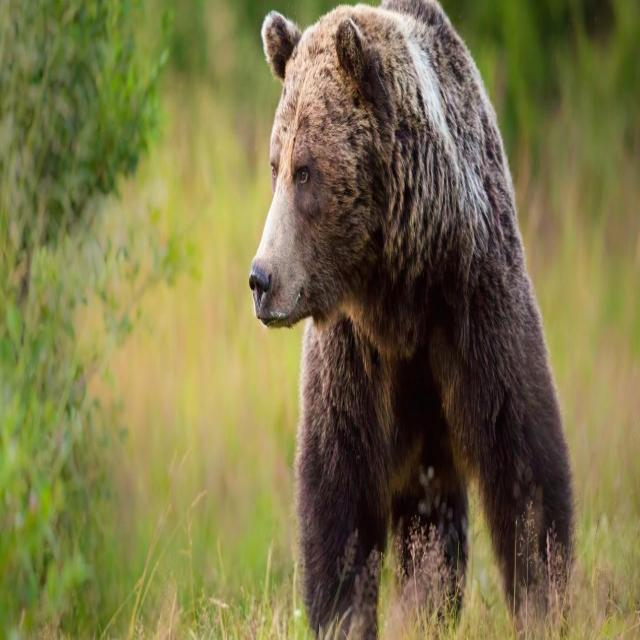Bear: (248, 0, 576, 640)
